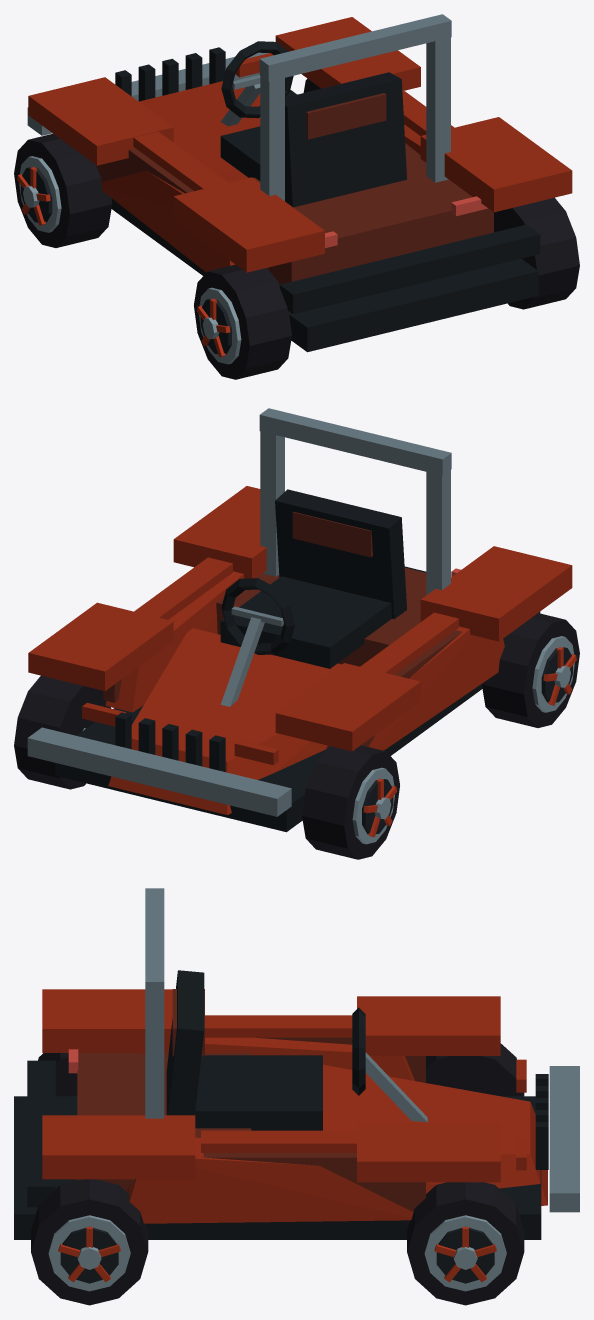
The model's file is kart.glb.
3 renders of one model, top to bottom at view 1: azimuth 30°, elevation 25°; view 2: azimuth 150°, elevation 25°; view 3: azimuth 270°, elevation 25°, orthographic. The views are drawn at different scales.
Parts seen in each view (by area): view 1: chassis, wheel-rear-left, wheel-front-left, wheel-rear-right; view 2: chassis, wheel-front-left, wheel-rear-left, wheel-front-right; view 3: chassis, wheel-rear-right, wheel-front-right, wheel-front-left, wheel-rear-left.
Boxes of the visible parts, bbox=[...] form: chassis: bbox=[27, 14, 572, 352]; wheel-rear-left: bbox=[194, 264, 291, 379]; wheel-front-left: bbox=[14, 133, 112, 247]; wheel-rear-right: bbox=[494, 197, 579, 309]; chassis: bbox=[27, 408, 572, 832]; wheel-front-left: bbox=[302, 745, 399, 859]; wheel-rear-left: bbox=[481, 613, 579, 727]; wheel-front-right: bbox=[14, 675, 110, 789]; chassis: bbox=[14, 888, 579, 1239]; wheel-rear-right: bbox=[31, 1179, 148, 1305]; wheel-front-right: bbox=[407, 1182, 524, 1305]; wheel-front-left: bbox=[426, 1043, 524, 1096]; wheel-rear-left: bbox=[38, 1053, 77, 1096].
Size of the model in its own units: 2.28 by 1.67 by 3.
